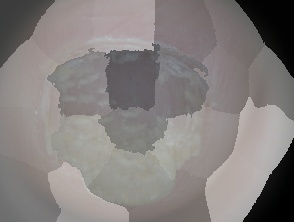Nail_psoriasis: (30, 24, 228, 218)
